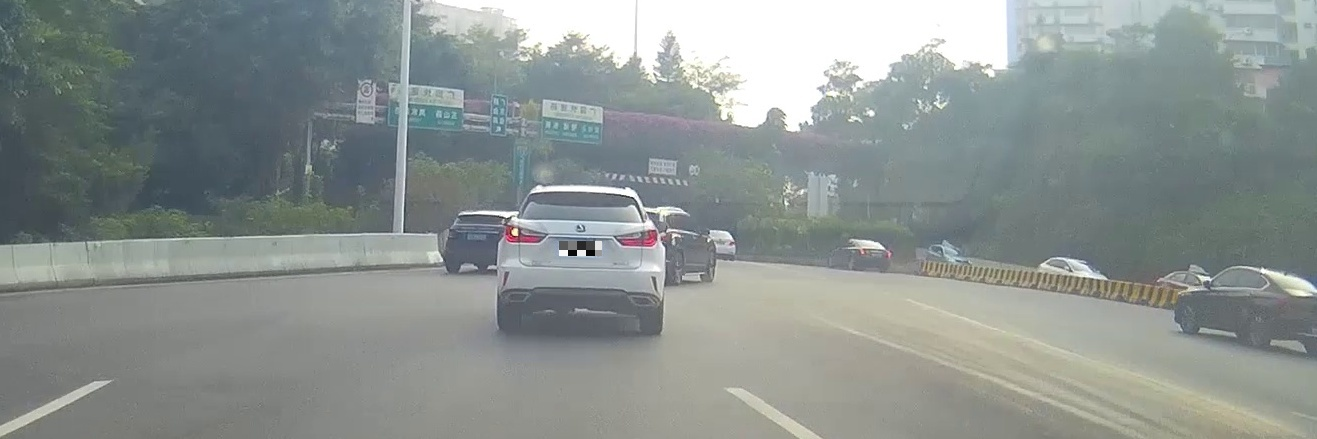L_light: (504, 224, 548, 244)
R_light: (614, 229, 658, 248)
T_light: (571, 192, 593, 196)
day-left: (496, 183, 665, 334)
plate_1: (559, 241, 602, 256)
